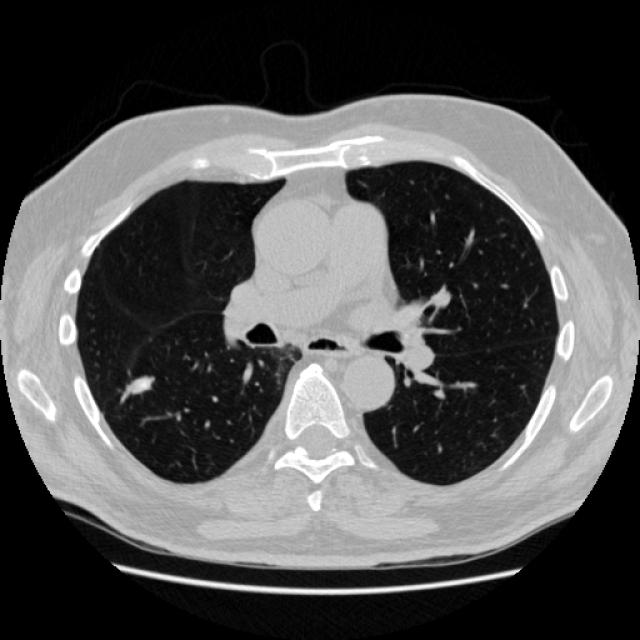nodule: (118, 362, 162, 406)
